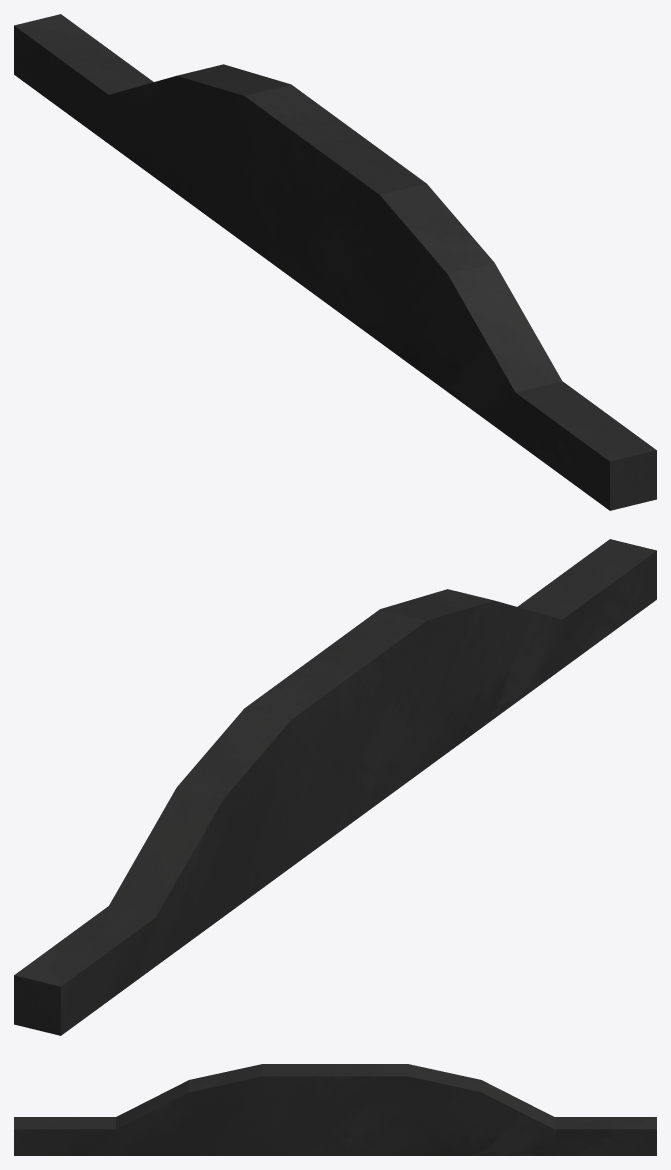
File: SM_Roof_A_End.fbx
The picture shows the model from 3 angles, top to bottom: view 1: azimuth 30°, elevation 25°; view 2: azimuth 150°, elevation 25°; view 3: azimuth 270°, elevation 25°; orthographic projection. The views are drawn at different scales.
Parts seen in each view (by area): view 1: Roof_A_End; view 2: Roof_A_End; view 3: Roof_A_End.
Part boxes in pixels (x1,y1,x2,y2): Roof_A_End: [14, 14, 656, 510]; Roof_A_End: [14, 539, 656, 1035]; Roof_A_End: [14, 1064, 656, 1155].
Size of the model in its own units: 0.1 by 0.3 by 2.2.
